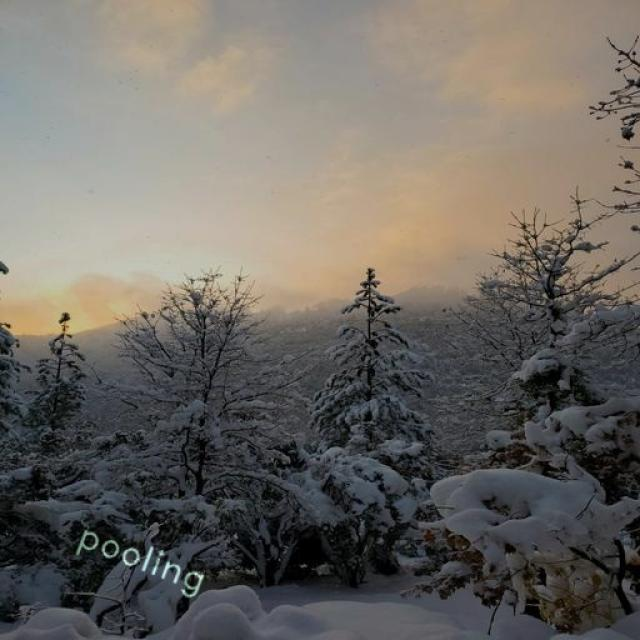watermark: (66, 516, 227, 599)
